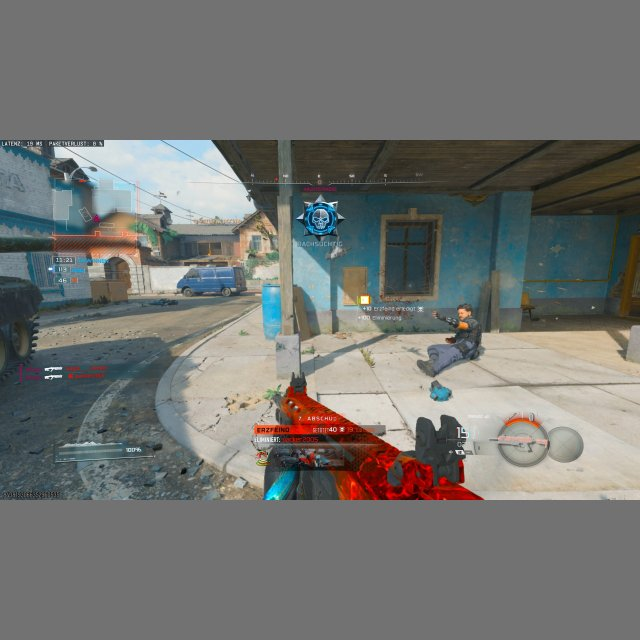head: (456, 303, 472, 318)
player: (422, 303, 484, 377)
